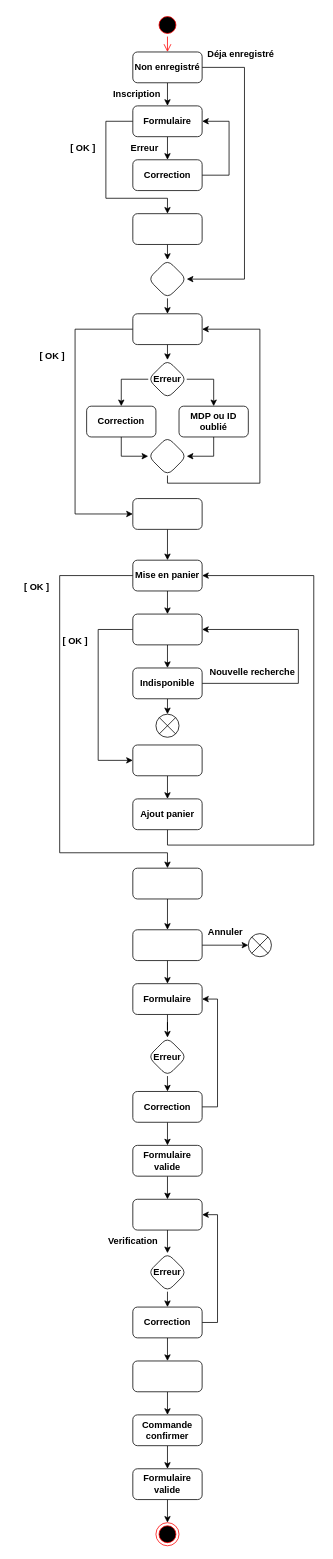
The diagram is 333 pixels wide and 1559 high, and some of its shapes have lost their labels. The centre of each missing label's shape, as x and y in pixels:
"Commande" belongs at point (167, 945).
"Connecter" belongs at point (167, 513).
"Connexion" belongs at point (167, 329).
"Enregistré" belongs at point (167, 228).
"Paiement" belongs at point (167, 1214).
"Panier complete" belongs at point (167, 883).
"Produit disponible" belongs at point (167, 760).
"Recherche de produit" belongs at point (167, 629).
"Transaction valide" belongs at point (167, 1376).
